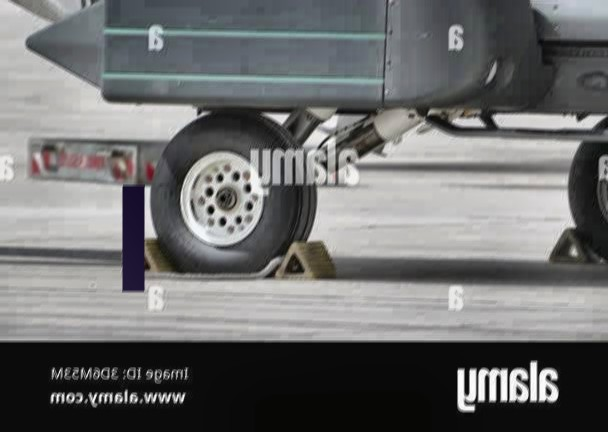chock: (120, 238, 182, 279), (275, 241, 337, 279), (547, 227, 604, 264)
wheel: (151, 110, 316, 272), (566, 135, 607, 259)
